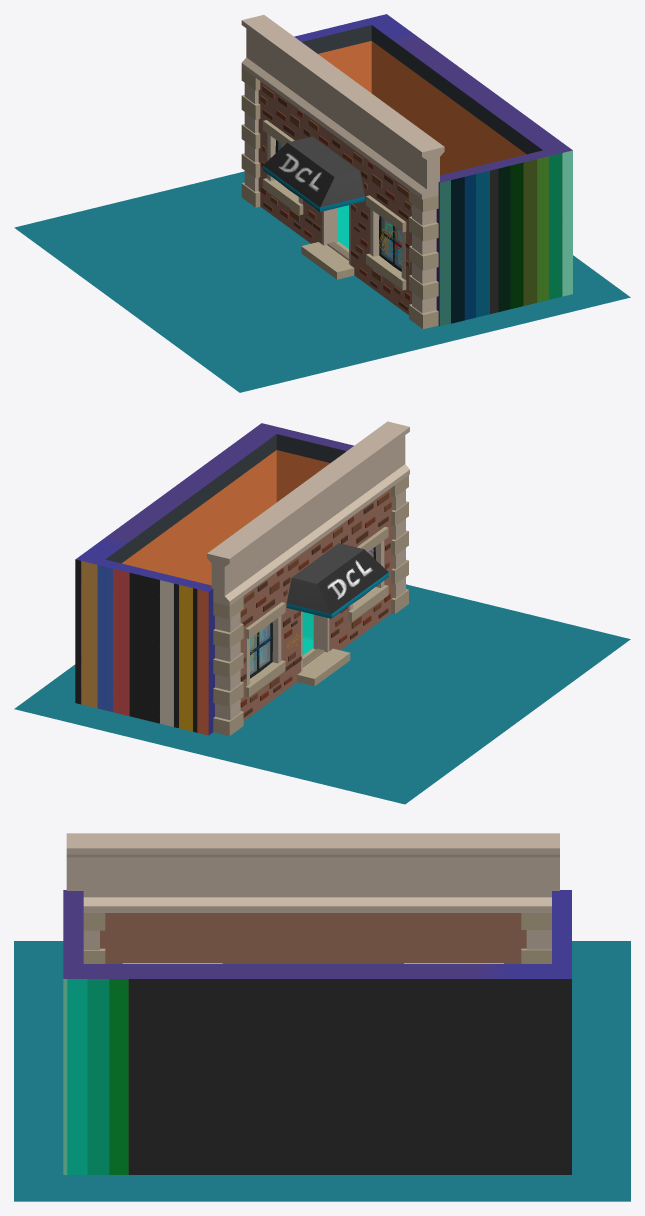
The model's file is plot.glb.
3 renders of one model, top to bottom at view 1: azimuth 30°, elevation 25°; view 2: azimuth 150°, elevation 25°; view 3: azimuth 270°, elevation 25°, orthographic. The views are drawn at different scales.
Parts seen in each view (by area): view 1: Plane, facade, hood; view 2: Plane, facade, hood; view 3: Plane, facade.
Part boxes in pixels (<box>): Plane: <box>14,14,630,392</box>; facade: <box>241,15,444,329</box>; hood: <box>263,136,364,211</box>; Plane: <box>14,423,630,804</box>; facade: <box>207,421,409,736</box>; hood: <box>286,543,388,618</box>; Plane: <box>14,890,630,1201</box>; facade: <box>66,833,559,963</box>.
Size of what is drawn, in the model's own units: 16 by 6.93 by 16.
Materials: 10 (2 with a texture image).
